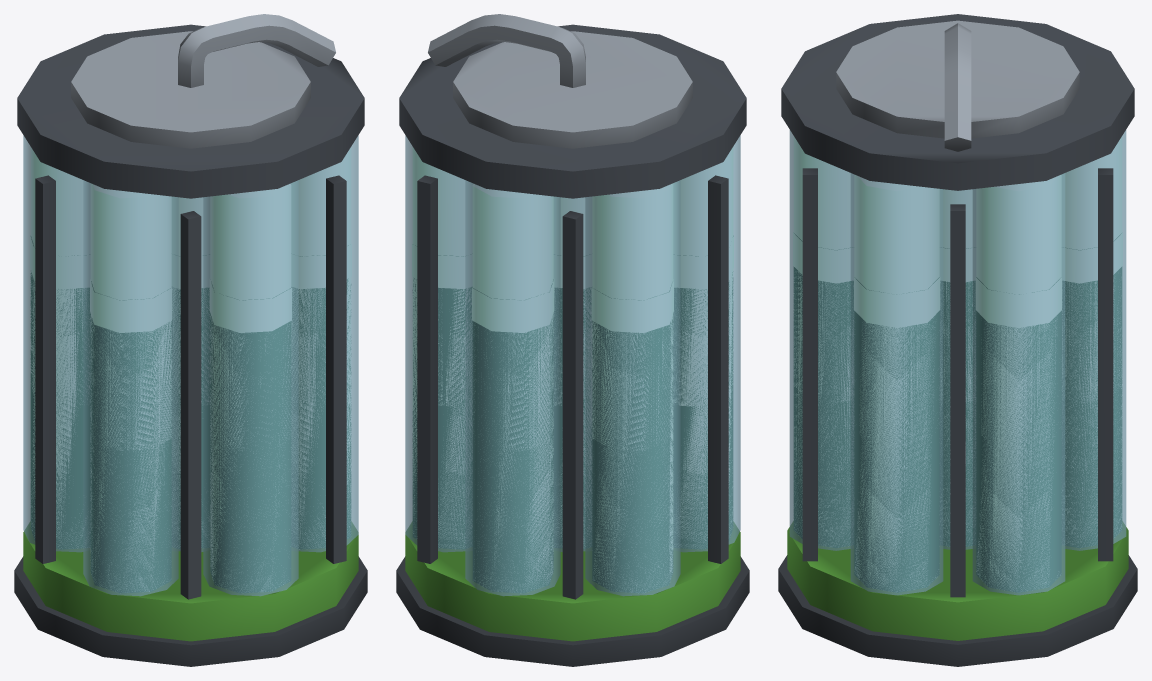
Rendered from crop_algae.glb.
3 views of the same model, side by side, from view 1: azimuth 30°, elevation 25°; view 2: azimuth 150°, elevation 25°; view 3: azimuth 270°, elevation 25° (orthographic).
Visible parts, largest first — view 1: Stage1, Stage2, Stage3; view 2: Stage1, Stage2, Stage3; view 3: Stage1, Stage2, Stage3.
Boxes of the visible parts, x1,y1,x2,y2 form: Stage1: [14, 14, 367, 666]; Stage2: [23, 136, 358, 595]; Stage3: [30, 147, 351, 593]; Stage1: [396, 14, 749, 666]; Stage2: [405, 136, 740, 595]; Stage3: [412, 147, 733, 593]; Stage1: [778, 14, 1137, 666]; Stage2: [790, 131, 1125, 594]; Stage3: [793, 136, 1122, 592].
Bounding box in the file's own units: 1.18 × 2.07 × 1.18.
